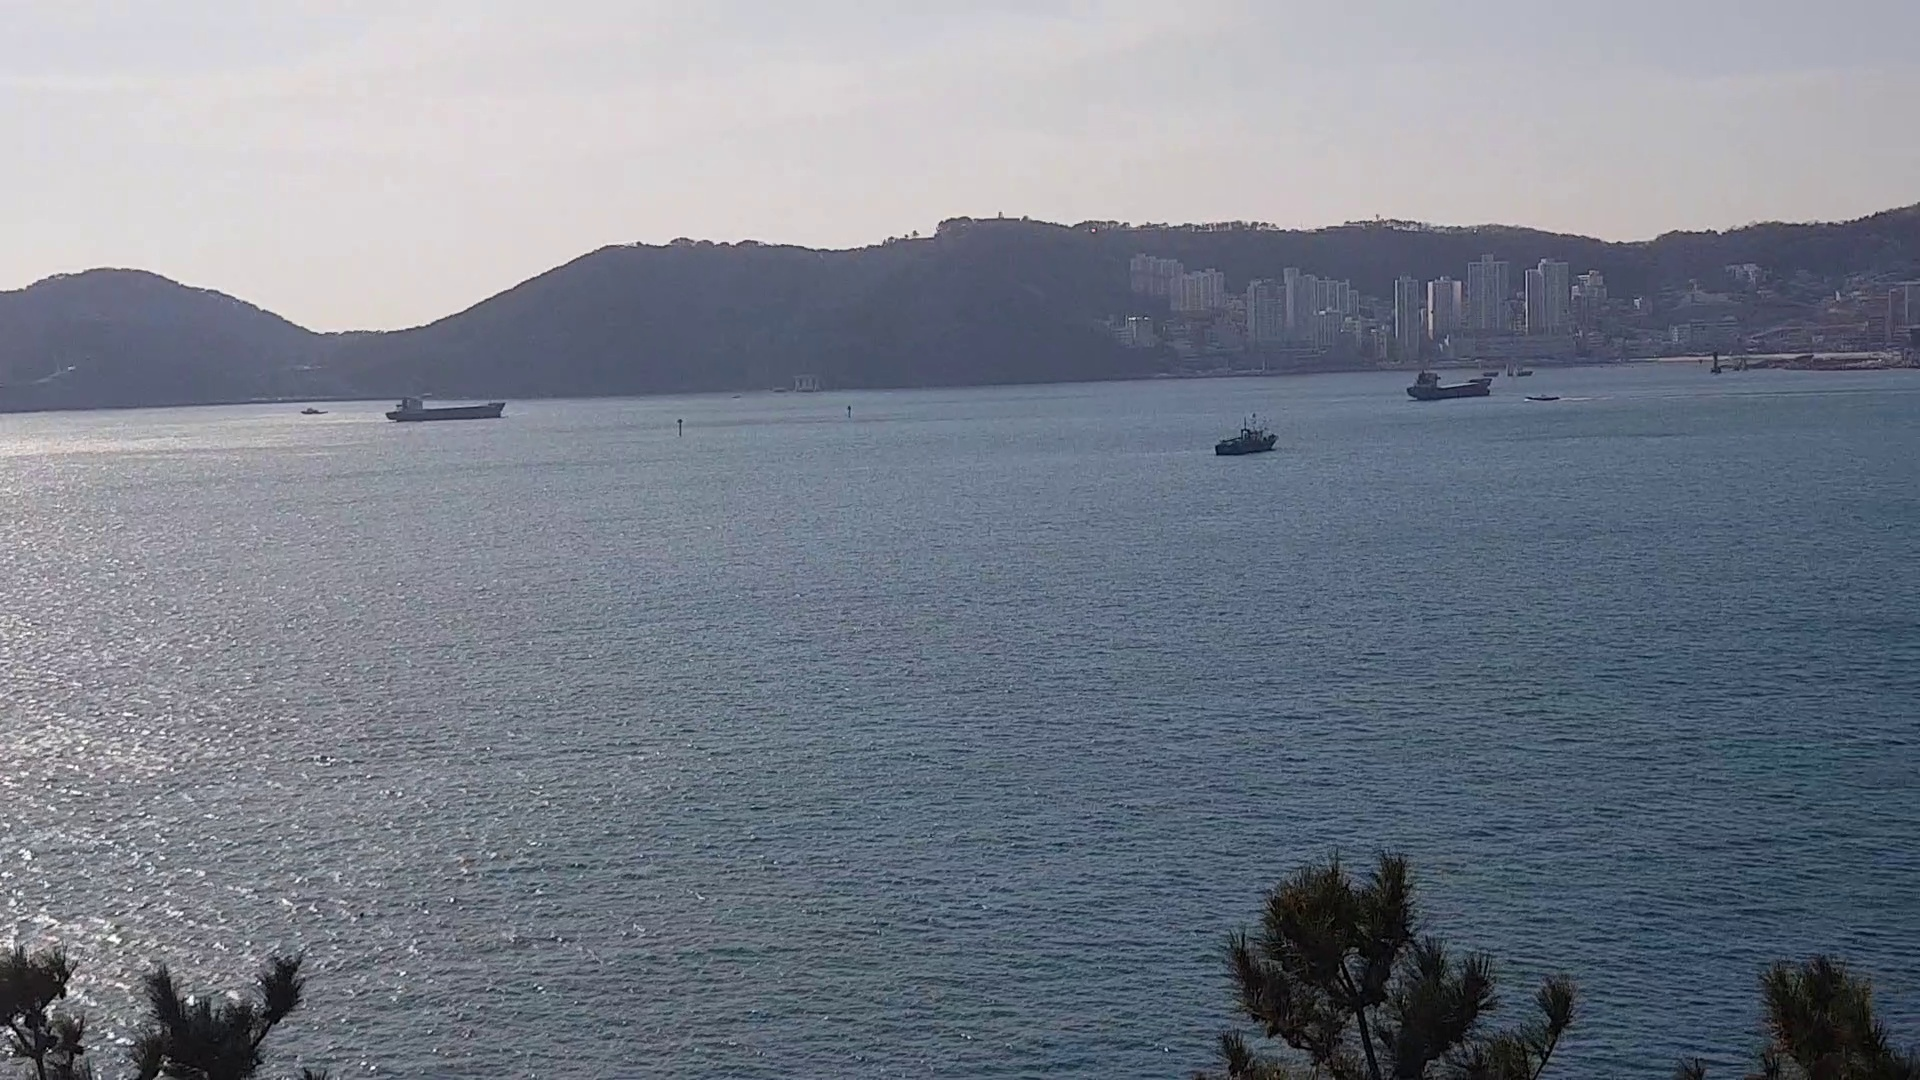Bulk_Carrier: (382, 397, 504, 427), (1402, 373, 1493, 397), (1205, 427, 1280, 452)
